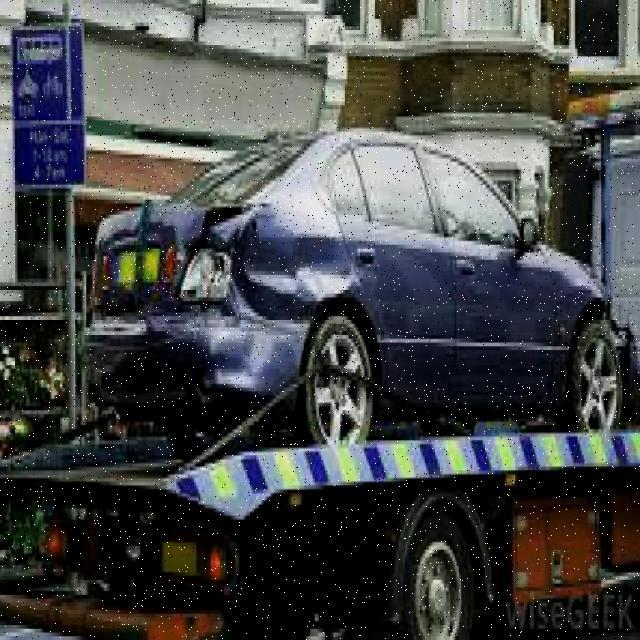car damage: (168, 197, 365, 396)
